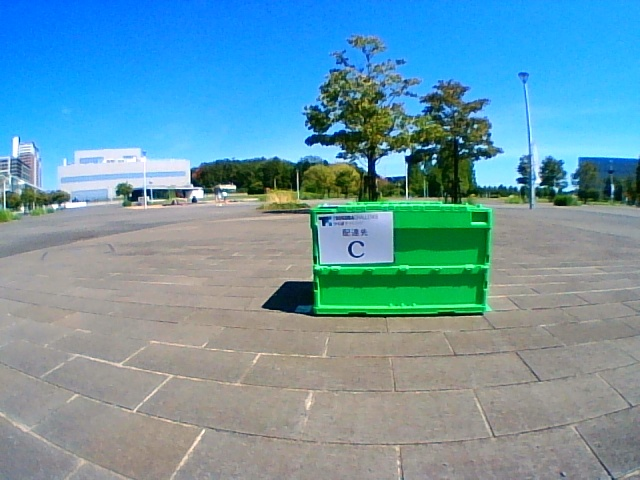green_box: (311, 201, 490, 315)
tag_c: (321, 215, 393, 264)
